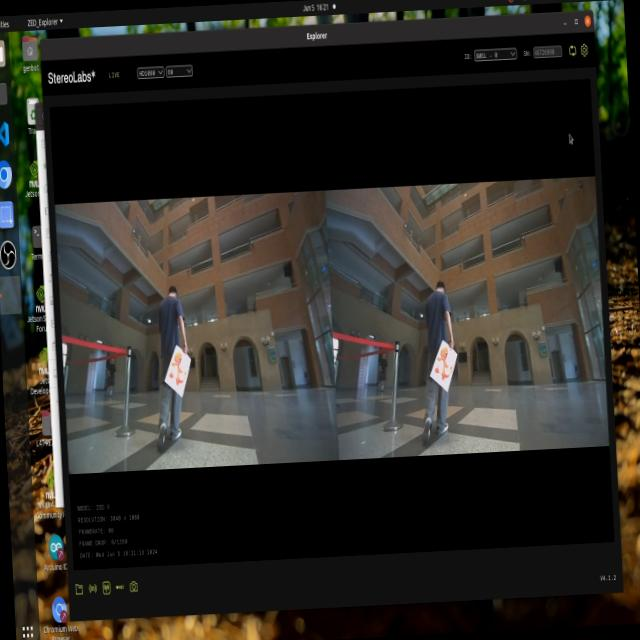red: (431, 342, 456, 392), (170, 352, 192, 401)
